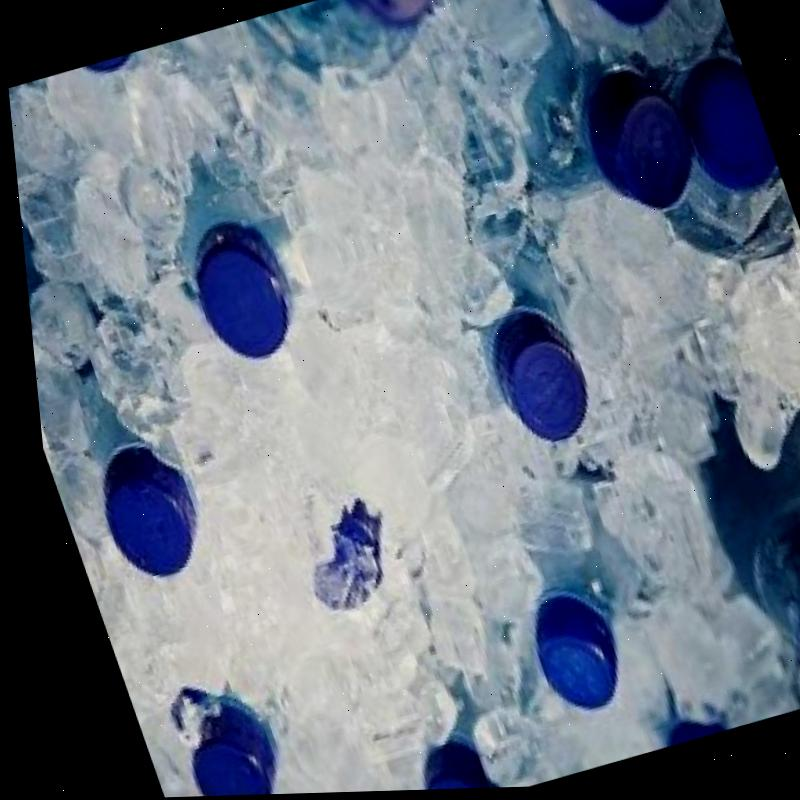botella: (22, 287, 239, 598), (115, 134, 335, 381), (488, 6, 707, 249), (419, 205, 615, 463), (666, 365, 800, 719), (466, 485, 655, 728), (616, 52, 800, 298), (359, 659, 508, 793), (143, 692, 283, 798), (272, 498, 393, 620), (306, 0, 467, 77), (552, 0, 714, 46), (632, 702, 720, 753), (69, 52, 139, 85)
